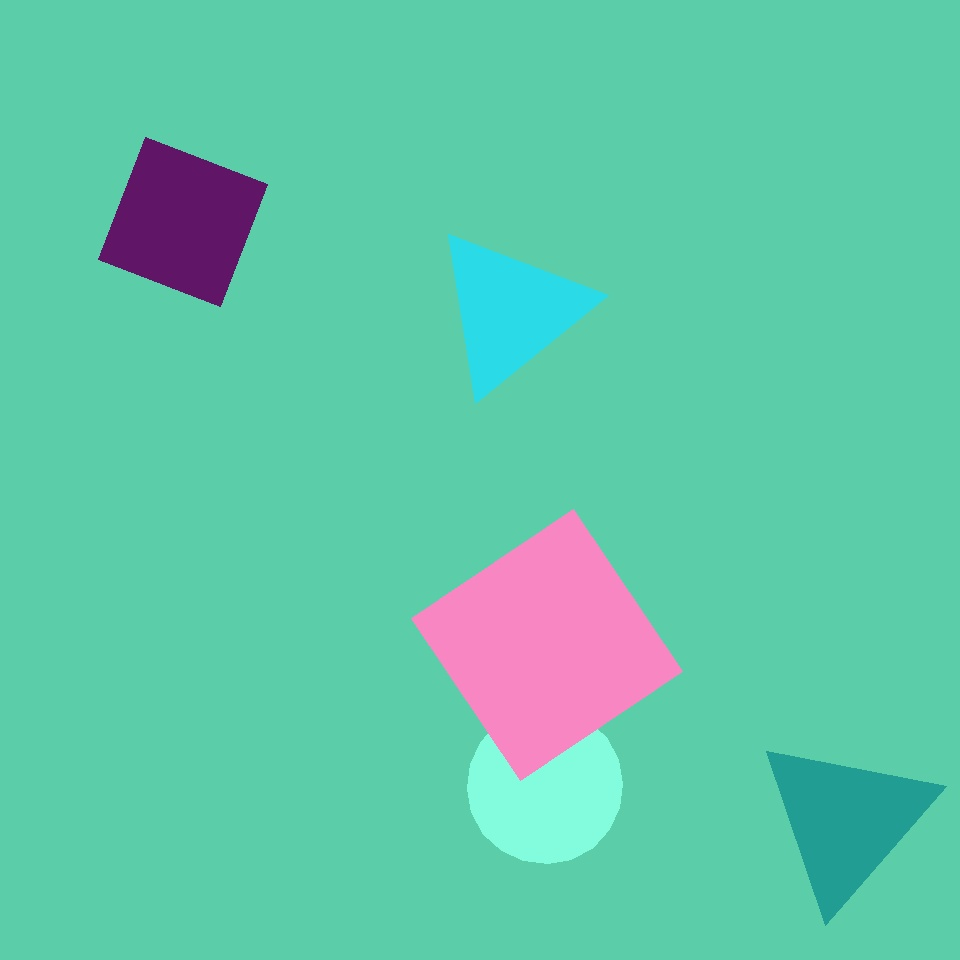circle: (756, 734, 936, 908), (431, 227, 591, 396), (506, 798, 631, 915)
square: (412, 510, 682, 780), (345, 252, 577, 485), (98, 138, 268, 306), (535, 408, 702, 575), (746, 740, 890, 884)
triangle: (468, 708, 622, 864)
